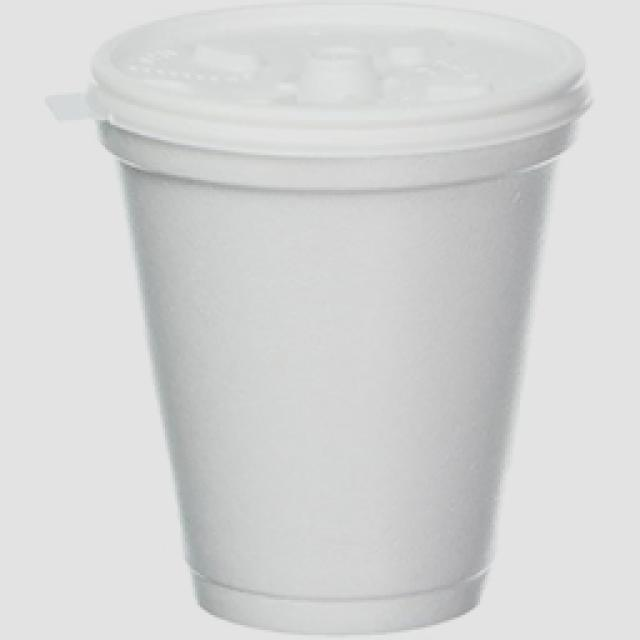plastik_botol: (76, 28, 574, 612)
